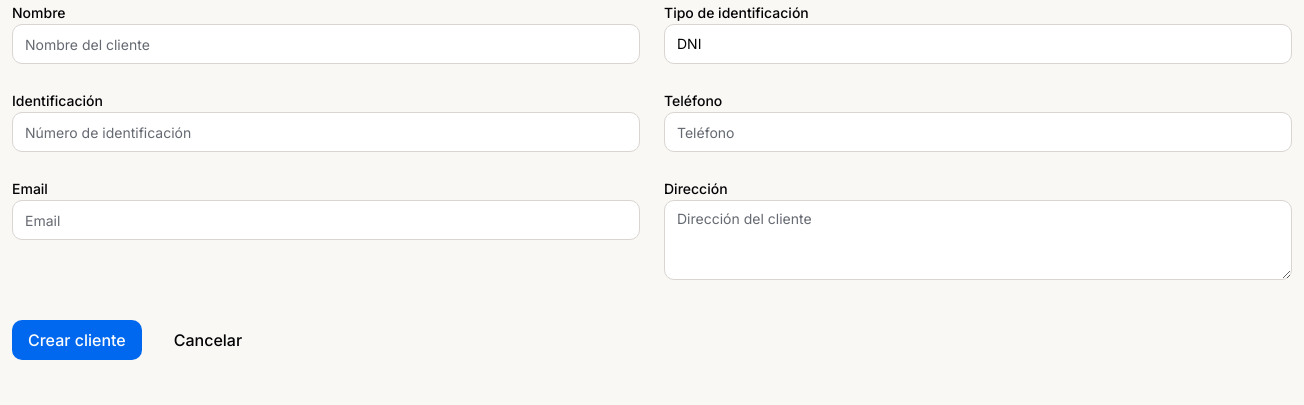
Test case: ClientForm › blocks submit with invalid identification
Type "Juan Pérez" into the field labelled "Nombre" at [326, 44], box x1=12 y1=24 x2=640 y2=64
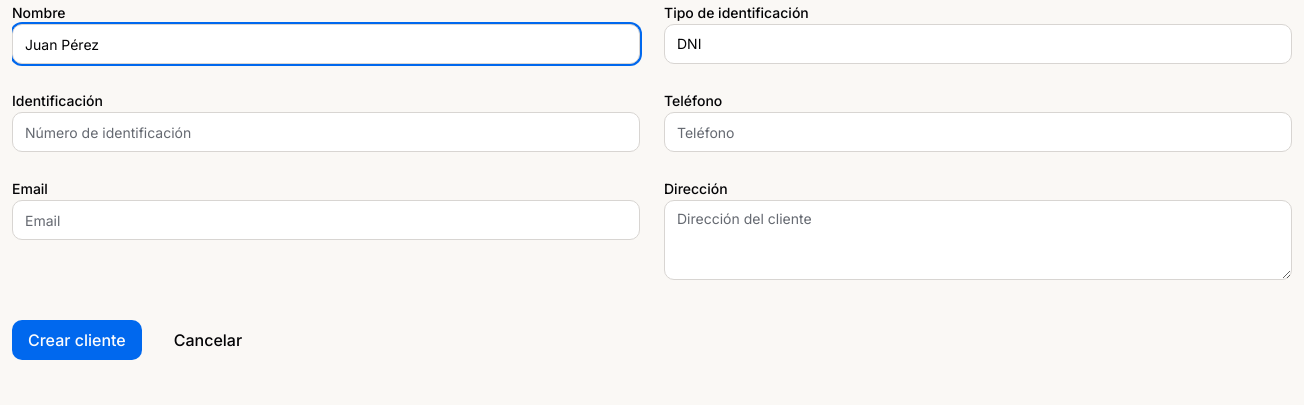
Type "123" into the field labelled "Identificación" at [326, 132], box x1=12 y1=112 x2=640 y2=152
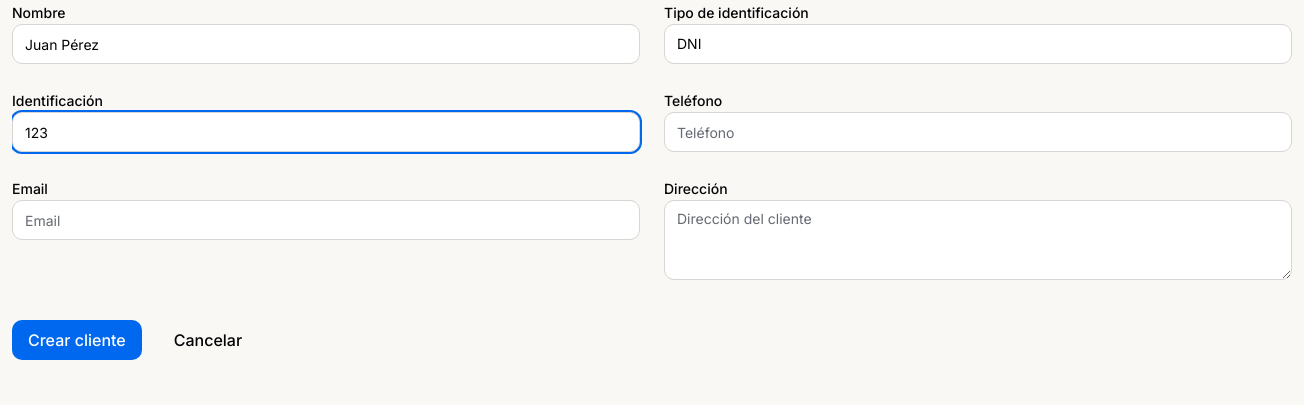
Click the button "Crear cliente" at [77, 340], box x1=12 y1=320 x2=142 y2=360
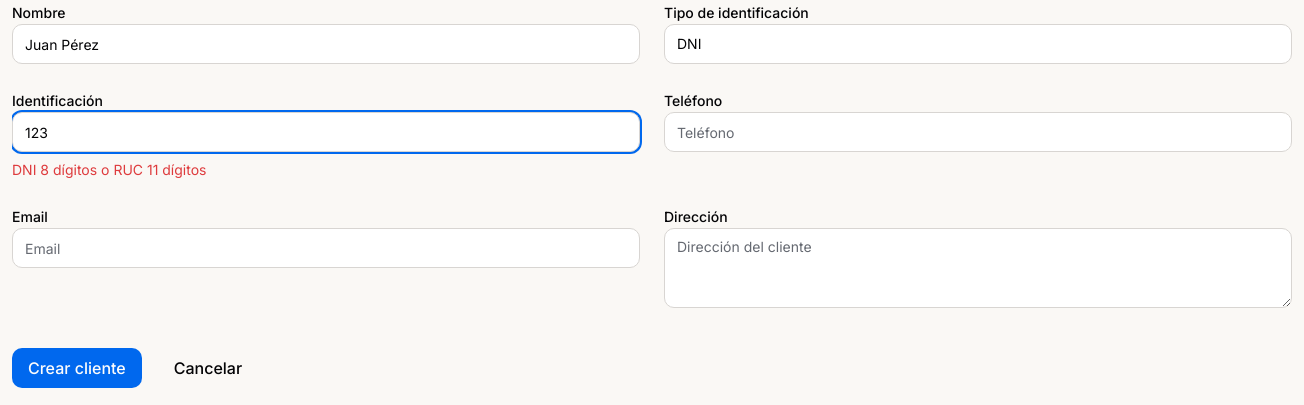
Now the message reads "DNI 8 dígitos o RUC 11 dígitos", box x1=12 y1=161 x2=206 y2=178
